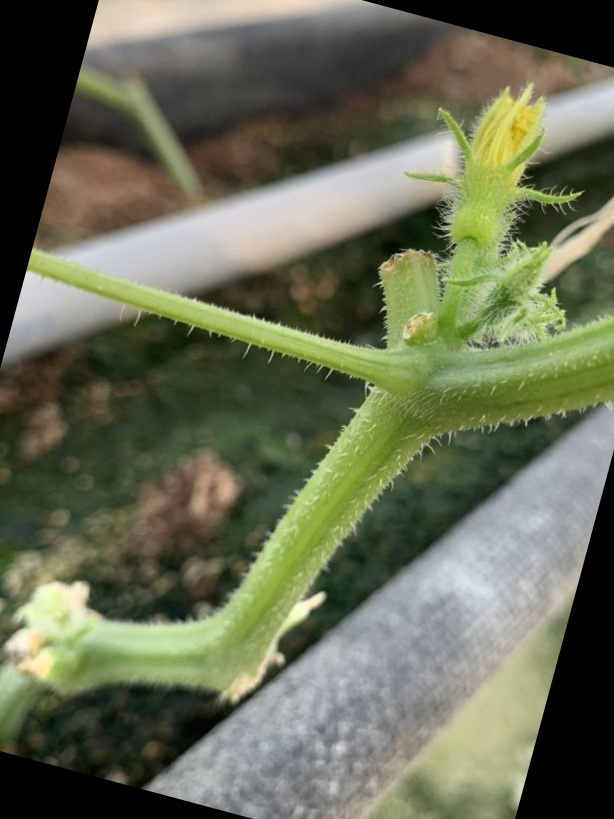bud: (408, 86, 563, 265)
